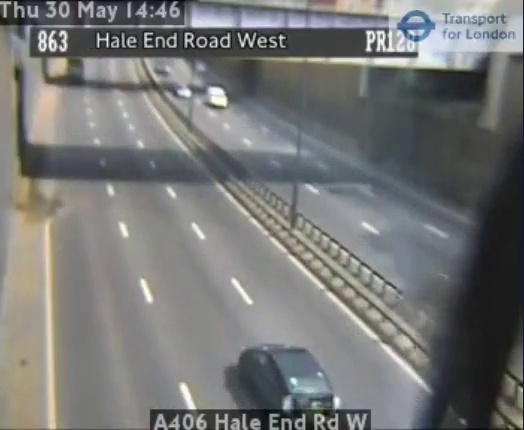car: (241, 344, 336, 409)
